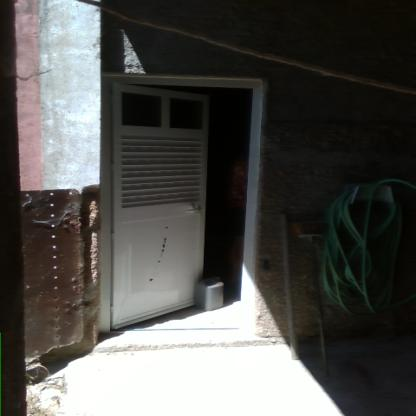semi: (90, 69, 273, 342)
